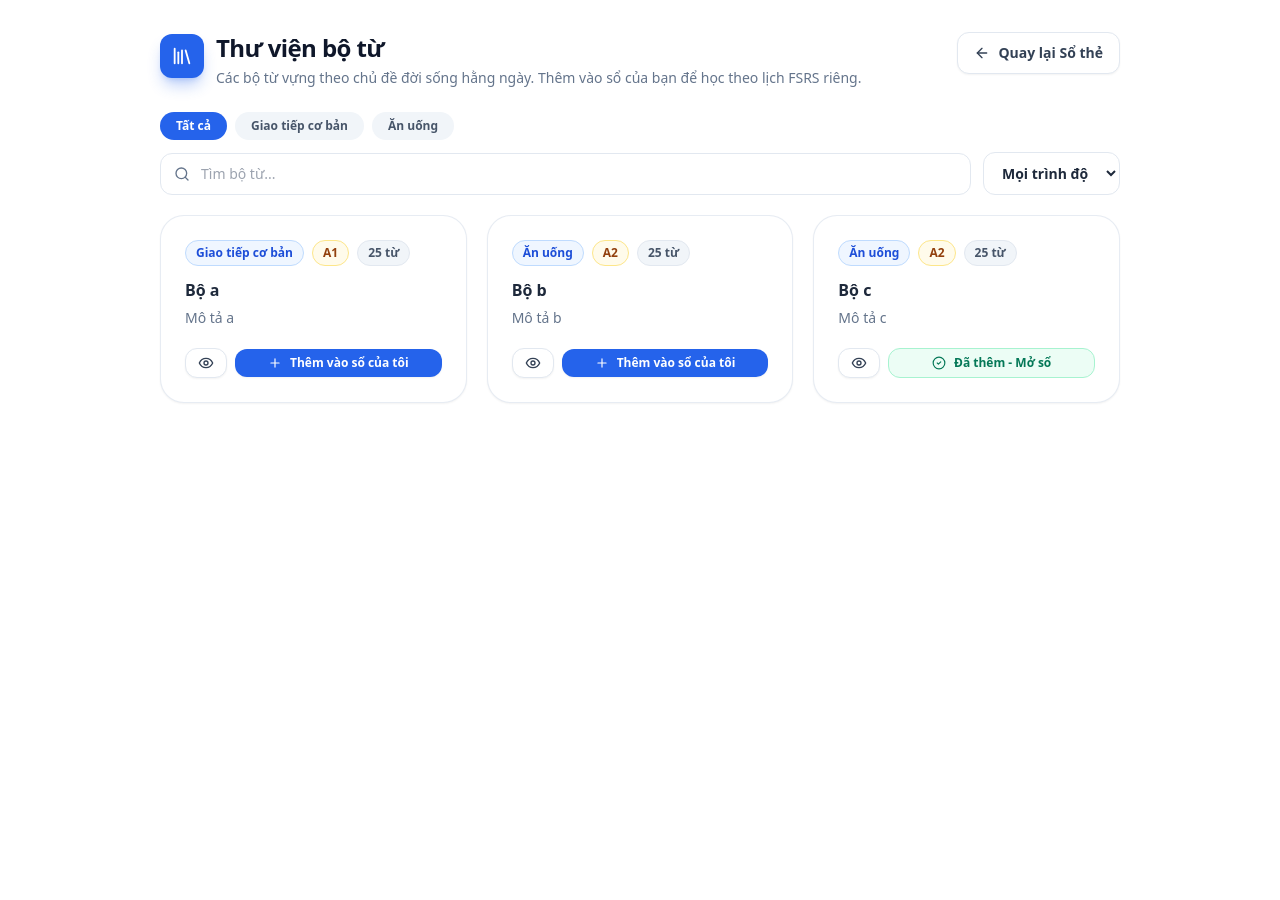
it: CatalogView › previews the first cards
The image size is (1280, 900).
Expected: the heading "Bộ a" is shown, [185,279,220,301]
Click the button named "Xem trước".
click(206, 363)  # box [185,348,227,378]
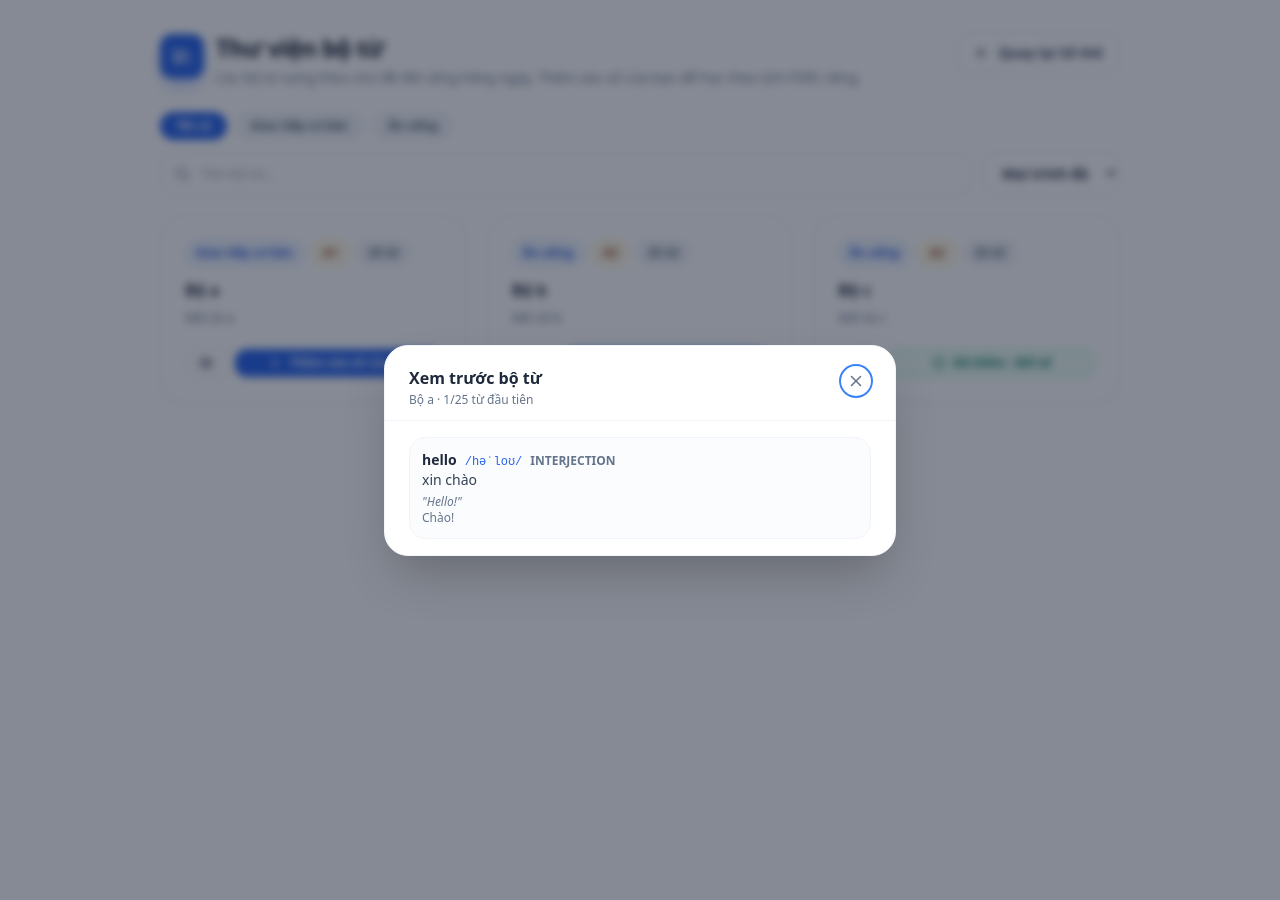
Expected: the text "hello" is shown, [422,450,457,470]
Expected: the text "xin chào" is shown, [422,470,477,488]
Expected: the text "Chào!" is shown, [422,508,454,526]
Click the button named "Đóng".
click(856, 380)  # box [841,366,871,396]
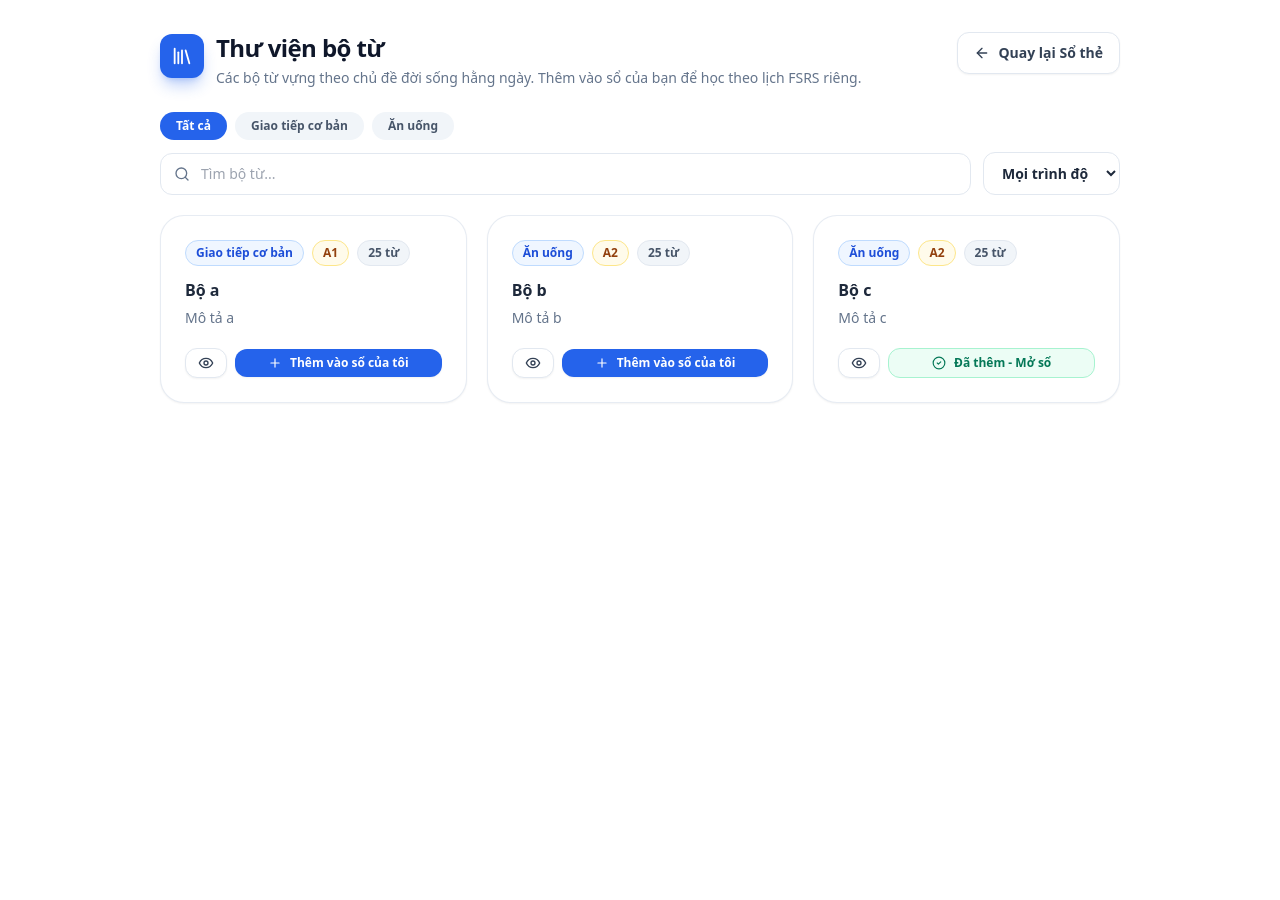
Expected: the dialog is gone
